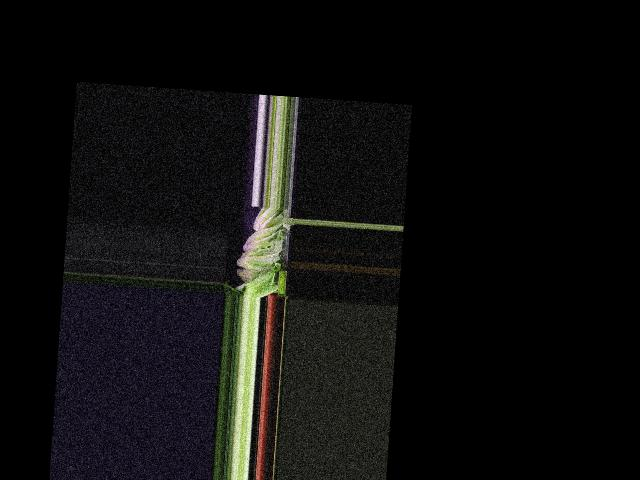lettuce: (251, 205, 282, 234)
